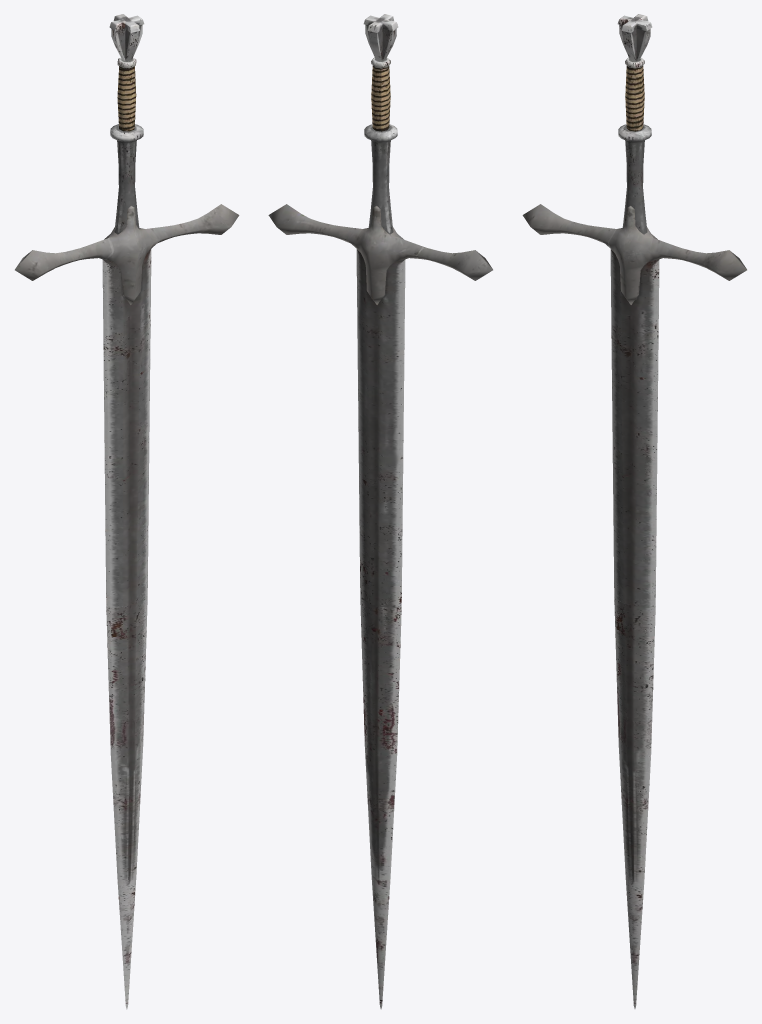
3 renders of one model, left to right at view 1: azimuth 30°, elevation 25°; view 2: azimuth 150°, elevation 25°; view 3: azimuth 330°, elevation 25°, orthographic.
Visible parts, largest first — view 1: SM_LothricGreatSword01_LOD0; view 2: SM_LothricGreatSword01_LOD0; view 3: SM_LothricGreatSword01_LOD0.
Boxes of the visible parts, x1,y1,x2,y2 form: SM_LothricGreatSword01_LOD0: (15,14,239,1009); SM_LothricGreatSword01_LOD0: (268,14,492,1009); SM_LothricGreatSword01_LOD0: (522,14,746,1008).
Bounding box in the file's own units: 0.3802 × 1.6 × 0.0699.
Materials: 1 (1 with a texture image).
